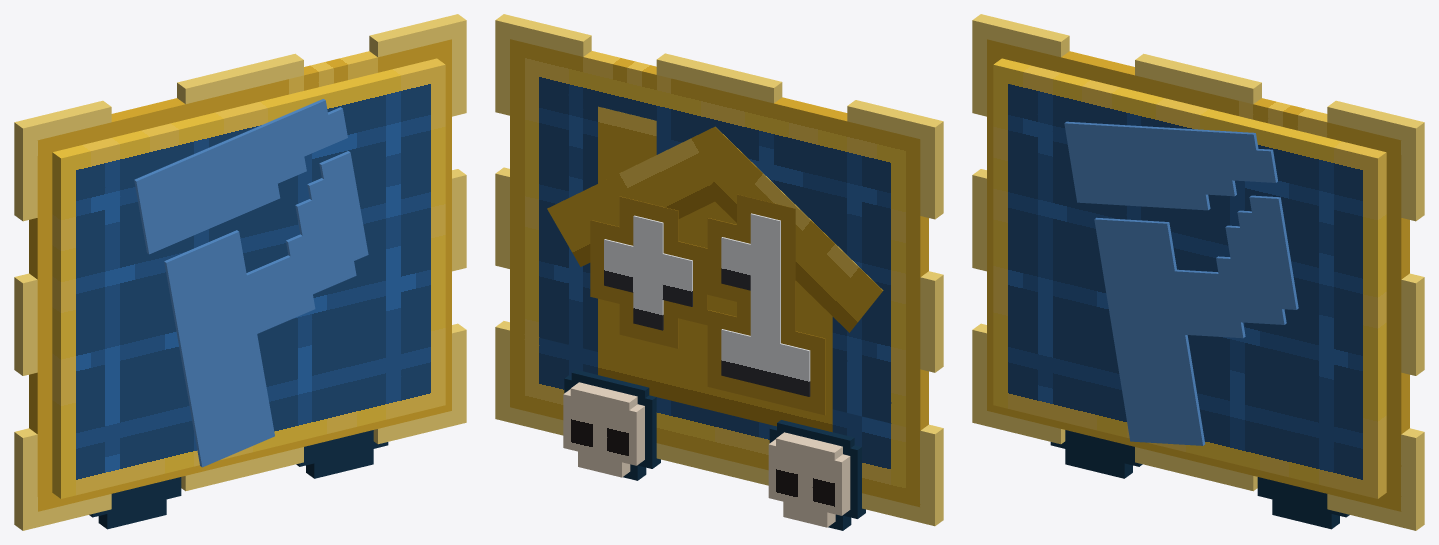
File: bldg_up_gold_advanced.gltf
The picture shows the model from 3 angles, left to right: view 1: azimuth 30°, elevation 25°; view 2: azimuth 150°, elevation 25°; view 3: azimuth 330°, elevation 25°; orthographic projection.
Visible parts, largest first — view 1: plan-Local, backp-Local, skull03-Local, skull02-Local; view 2: plan-Local, house_body-Local, icon_border-Local, icon-Local, house_roof_2-Local, skull02-Local, skull03-Local, house_roof_1-Local; view 3: plan-Local, backp-Local, skull02-Local, skull03-Local.
Part boxes in pixels (box(x1,y1,x2,y2)): plan-Local: box(14, 14, 466, 530); backp-Local: box(134, 99, 368, 467); skull03-Local: box(89, 477, 181, 529); skull02-Local: box(296, 430, 388, 478); plan-Local: box(495, 14, 943, 526); house_body-Local: box(598, 106, 832, 432); icon_border-Local: box(590, 194, 825, 415); icon-Local: box(604, 213, 810, 396); house_roof_2-Local: box(698, 126, 883, 332); skull02-Local: box(563, 369, 660, 480); skull03-Local: box(768, 420, 865, 530); house_roof_1-Local: box(547, 127, 721, 266); plan-Local: box(972, 14, 1424, 530); backp-Local: box(1064, 121, 1298, 445); skull02-Local: box(1257, 477, 1349, 529); skull03-Local: box(1050, 430, 1142, 478).
Size of the model in its own units: 60 by 55 by 7.52.
9 materials, 9 textured.
